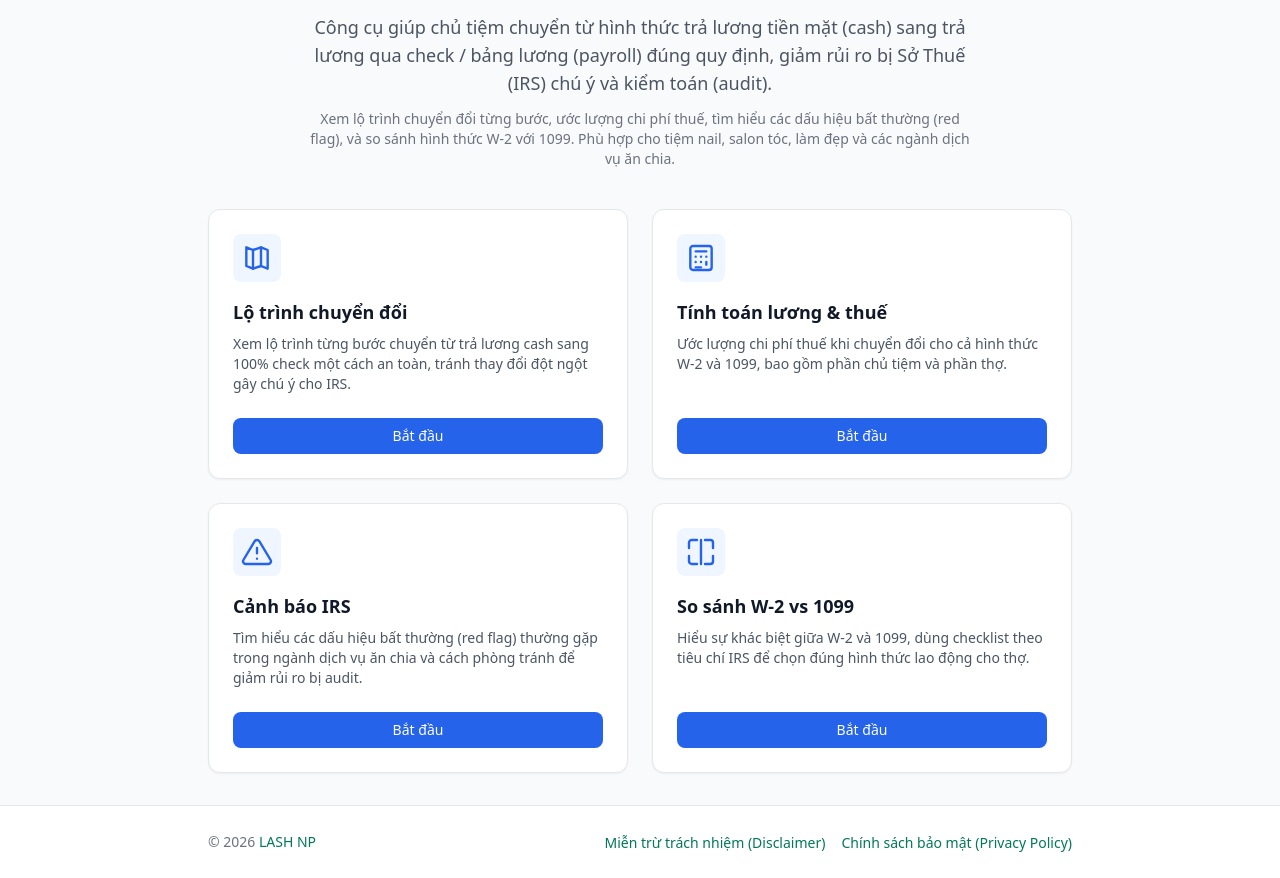
Test case: App flow router › opens the privacy policy overlay from the footer
(page scrolled)
Click the button "Chính sách bảo mật (Privacy Policy)" at point(957, 843), box [841,833,1072,853]
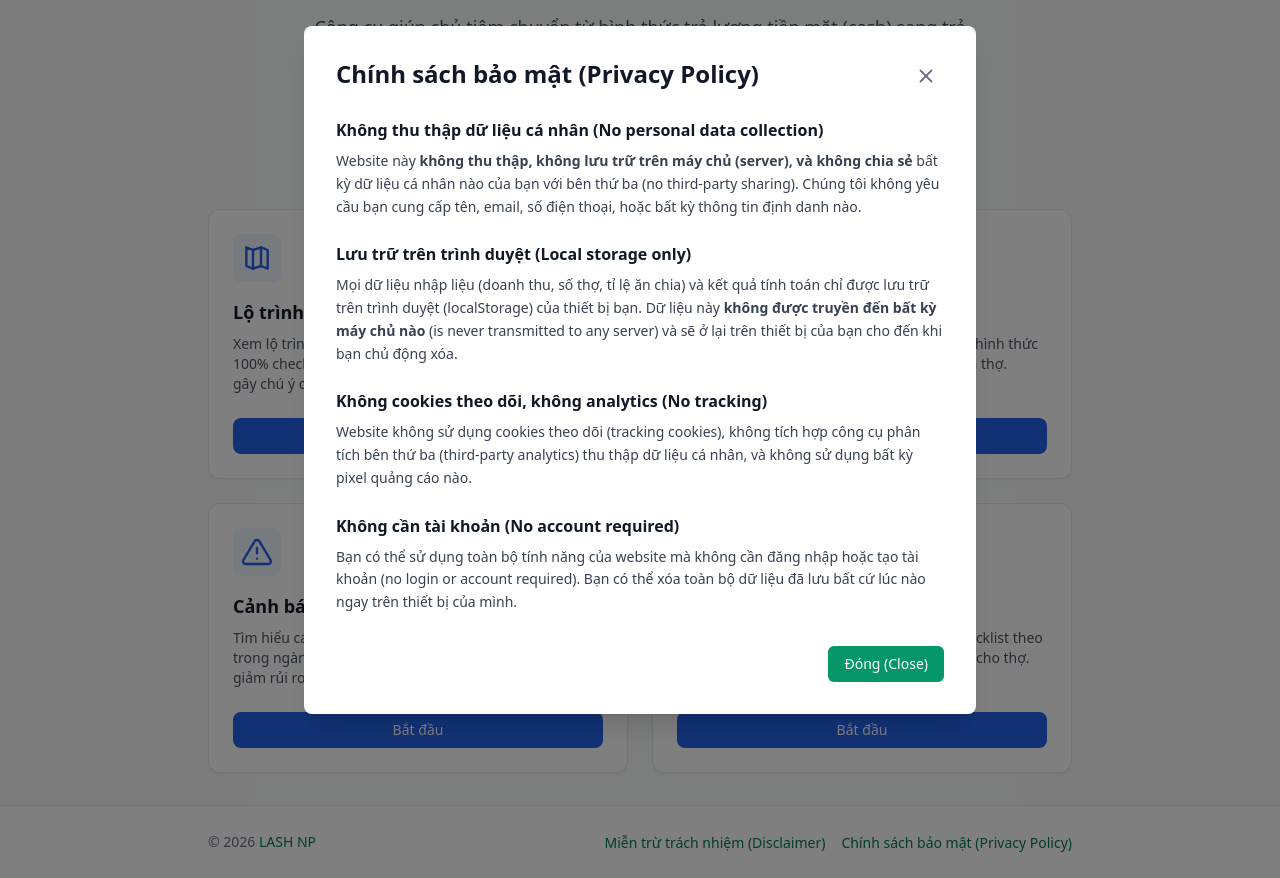
expect the heading "Chính sách bảo mật (Privacy Policy)" is shown: met, box [336,58,759,90]
